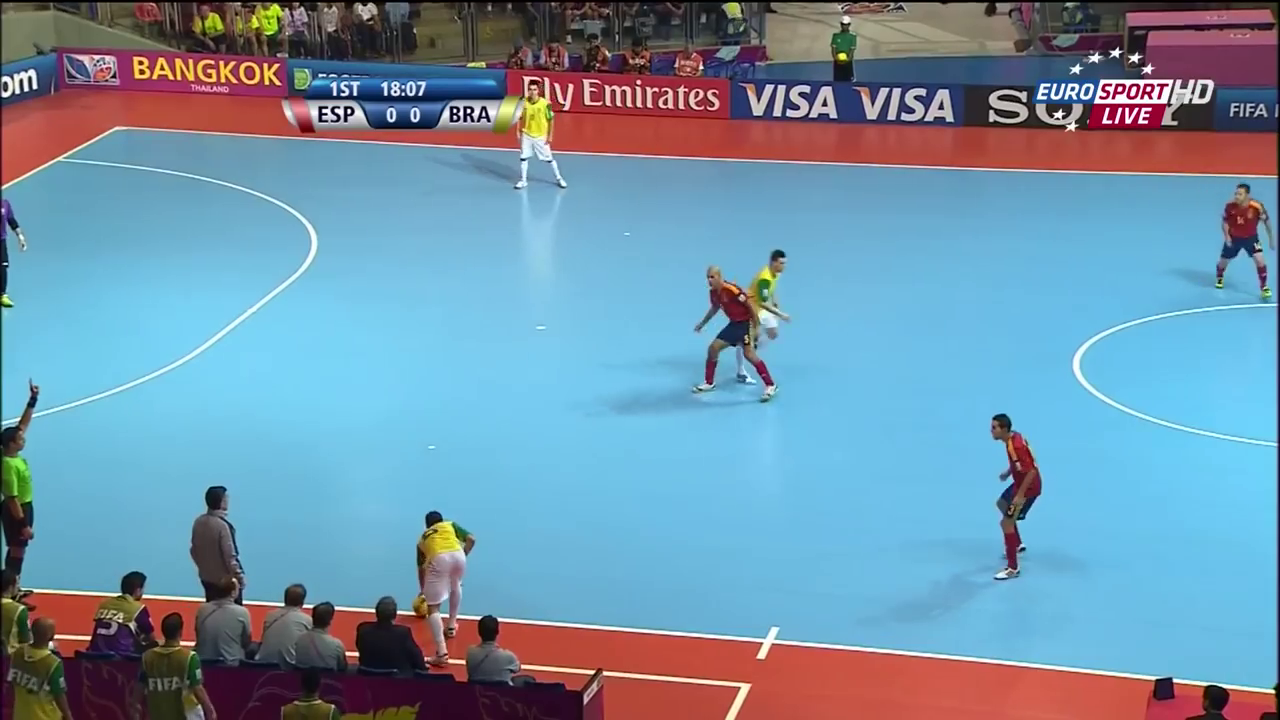ball: (406, 591, 437, 621)
person: (395, 500, 485, 669), (685, 262, 775, 408), (977, 411, 1048, 582), (500, 75, 572, 193), (1212, 183, 1271, 303), (737, 245, 784, 376), (2, 200, 31, 310)
